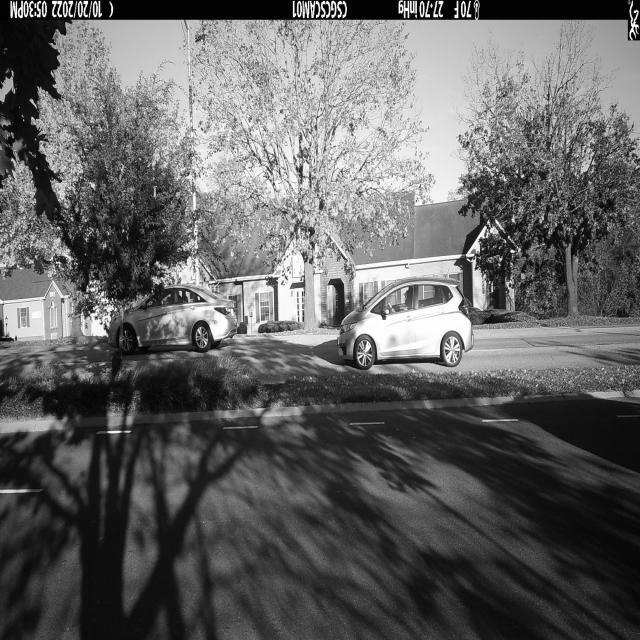Hatchback: (338, 277, 474, 371)
